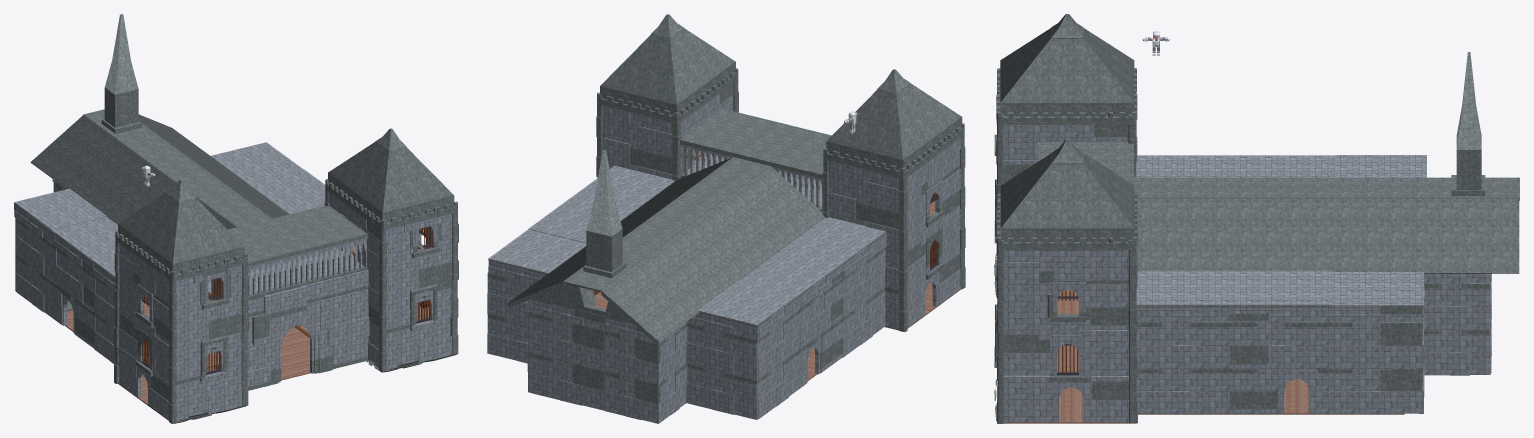
The model's file is GreatHall_2.obj.
The picture shows the model from 3 angles, left to right: view 1: azimuth 30°, elevation 25°; view 2: azimuth 150°, elevation 25°; view 3: azimuth 270°, elevation 25°; orthographic projection. The views are drawn at different scales.
Visible parts, largest first — view 1: block, roof_point, roof_halfLarge, block_gate%, chimney_middle, roof_pointSteps, battlement, battlement_corner, gate, debris_stone; view 2: block, roof_halfLarge, roof_point, chimney_middle, roof_pointSteps, block_gate%, battlement, battlement_corner, blockTriangle; view 3: block, roof_halfLarge, roof_point, chimney_middle, roof_pointSteps, block_gate%, battlement, battlement_corner, gate.
Boxes of the visible parts, x1,y1,x2,y2 form: block: (14,106,451,421); roof_point: (118,141,454,273); roof_halfLarge: (30,114,289,229); block_gate%: (62,213,441,405); chimney_middle: (114,182,458,423); roof_pointSteps: (104,14,406,202); battlement: (125,186,437,276); battlement_corner: (115,179,457,281); gate: (141,226,432,374); debris_stone: (174,353,456,423); block: (487,83,960,423); roof_halfLarge: (506,157,825,343); roof_point: (600,28,962,170); chimney_middle: (596,72,965,331); roof_pointSteps: (586,14,910,256); block_gate%: (680,116,942,382); battlement: (621,76,955,173); battlement_corner: (597,68,964,178); blockTriangle: (532,284,633,323); block: (994,76,1519,423); roof_halfLarge: (1137,198,1519,273); roof_point: (1000,28,1134,241); chimney_middle: (995,72,1137,423); roof_pointSteps: (1051,14,1481,172); block_gate%: (1050,141,1317,422); battlement: (997,79,1136,250); battlement_corner: (996,68,1137,250); gate: (1057,290,1078,375).
Bounding box in the file's own units: 16.24 × 12.65 × 20.98.
14 materials, 5 textured.
